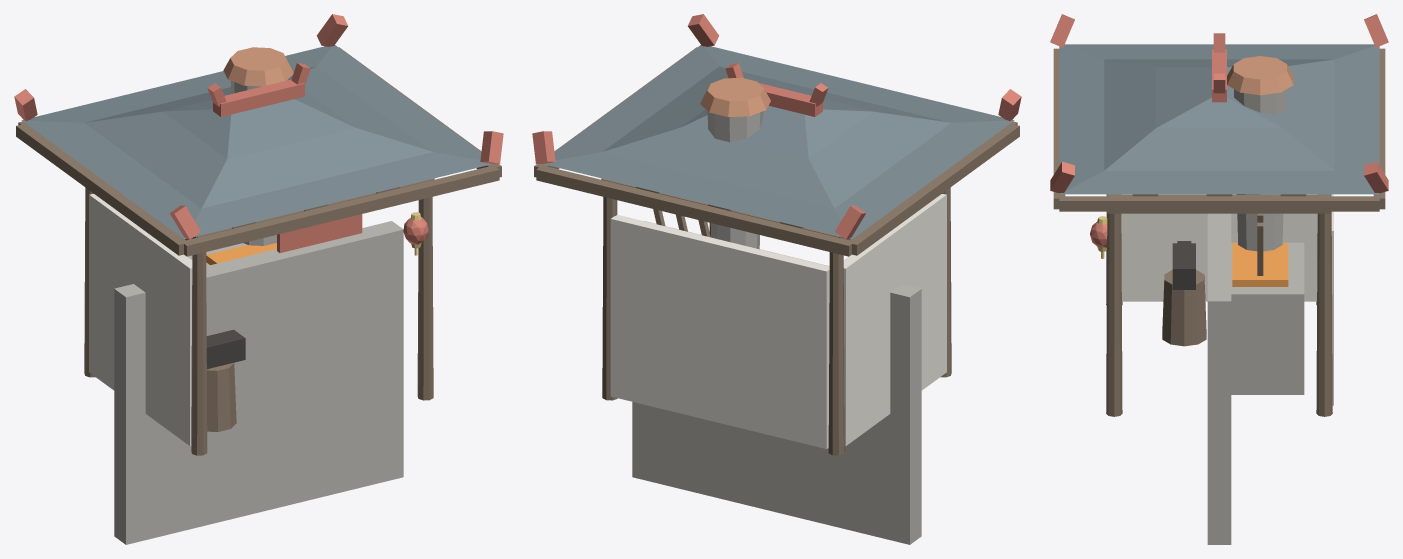
Rendered from SM_Building_Blacksmith.fbx.
3 renders of one model, left to right at view 1: azimuth 30°, elevation 25°; view 2: azimuth 150°, elevation 25°; view 3: azimuth 270°, elevation 25°, orthographic.
Visible parts, largest first — view 1: Blacksmith; view 2: Blacksmith; view 3: Blacksmith.
Part boxes in pixels (<box>): Blacksmith: <box>14,14,503,544</box>; Blacksmith: <box>532,14,1021,544</box>; Blacksmith: <box>1050,14,1388,544</box>.
Bounding box in the file's own units: 3.2 × 4.01 × 2.9.
